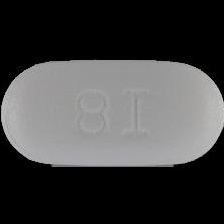55111-684: (0, 0, 224, 224)
